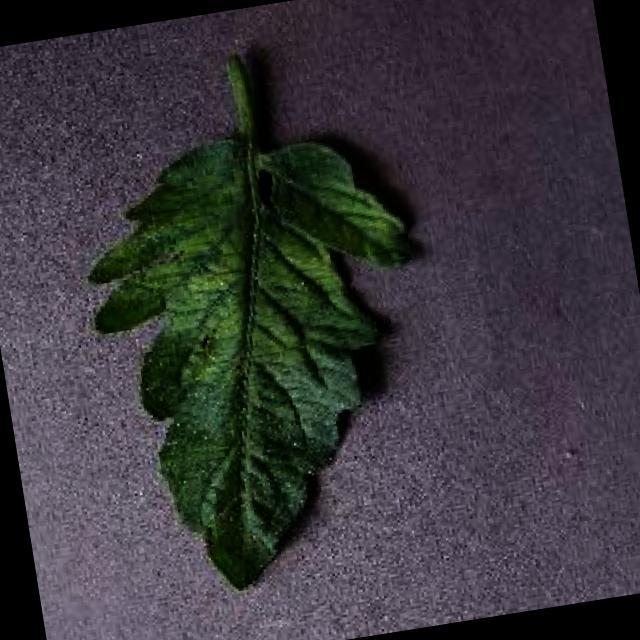Tomato mosaic virus leaf: (67, 107, 467, 612)
